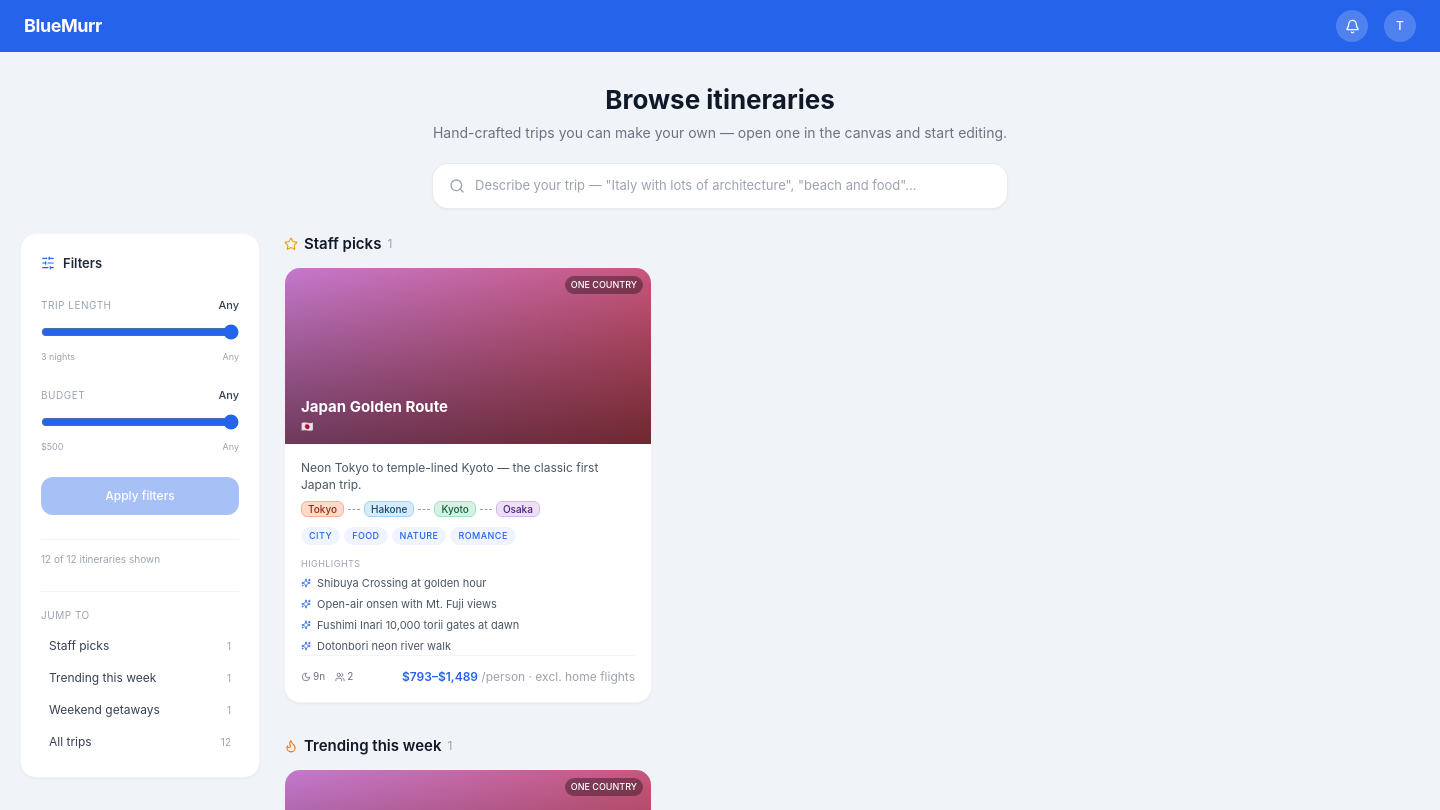
Browse — live catalog › searching collapses everything into one "Search results" section
Check: the element "Staff picks" is shown, box [284,234,652,702]
Replace the text in the field with placeholder "Describe your trip" with "iceland": (733, 186) [475,176,991,196]
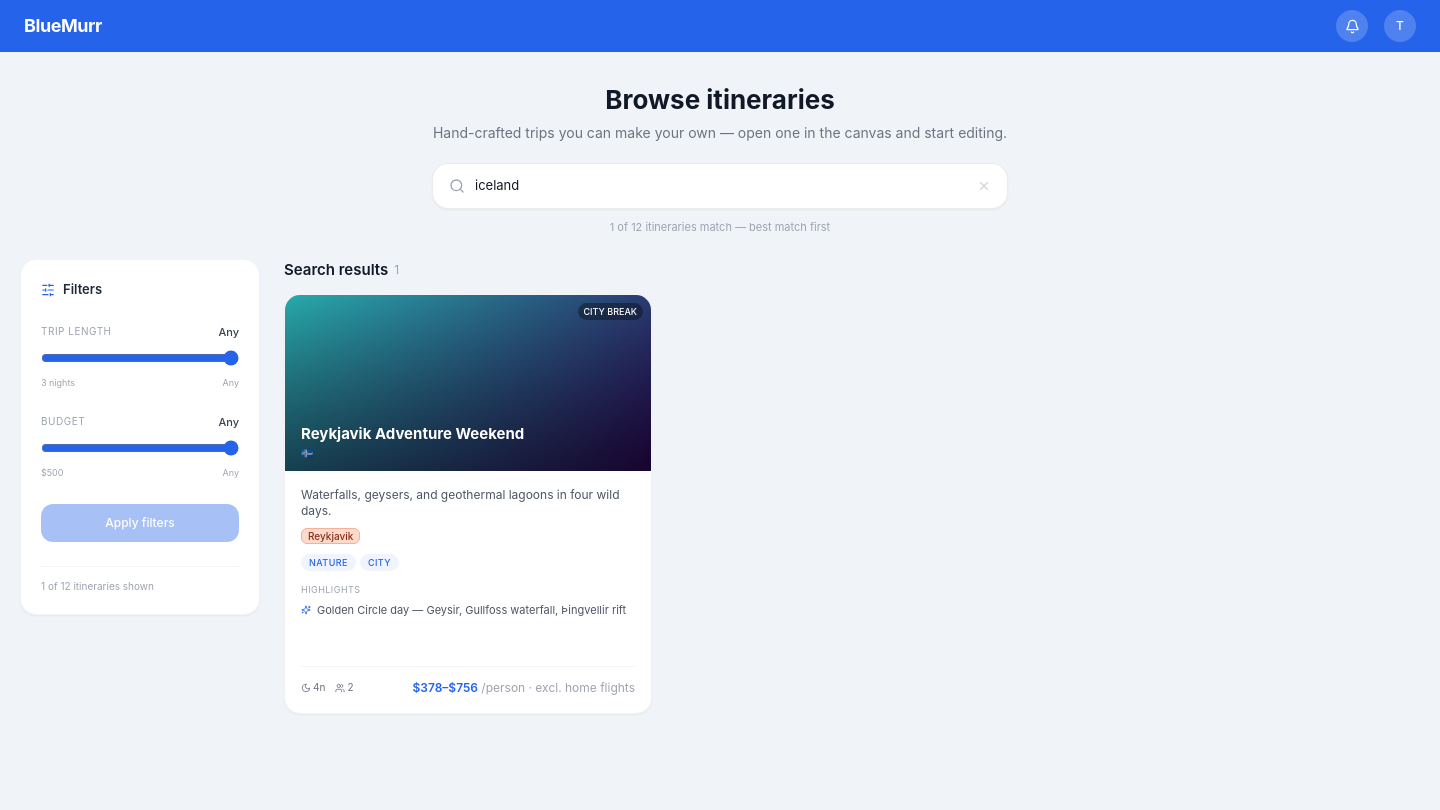
Check: the element "Search results" is shown, box [284,260,652,714]
Check: the button "All trips" is gone
